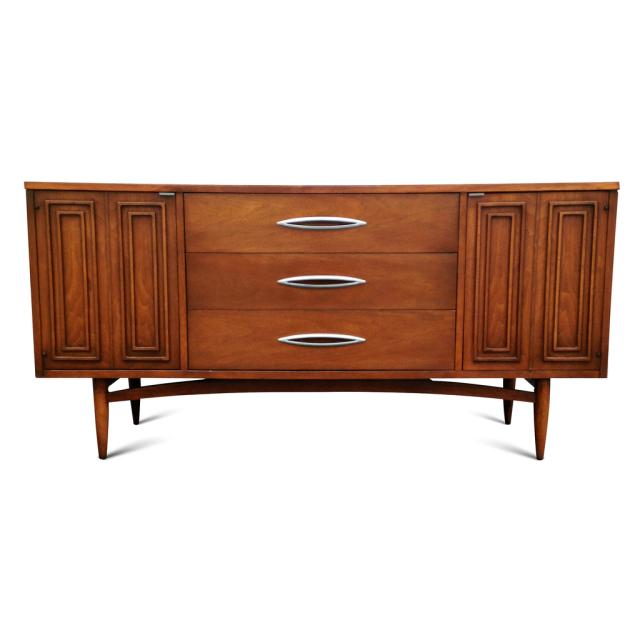beside table: (36, 167, 620, 430)
